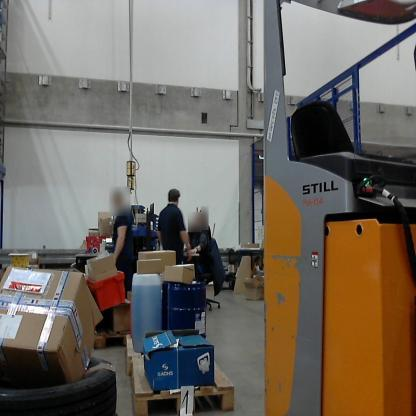pallets: (126, 352, 236, 415), (91, 326, 131, 349)
